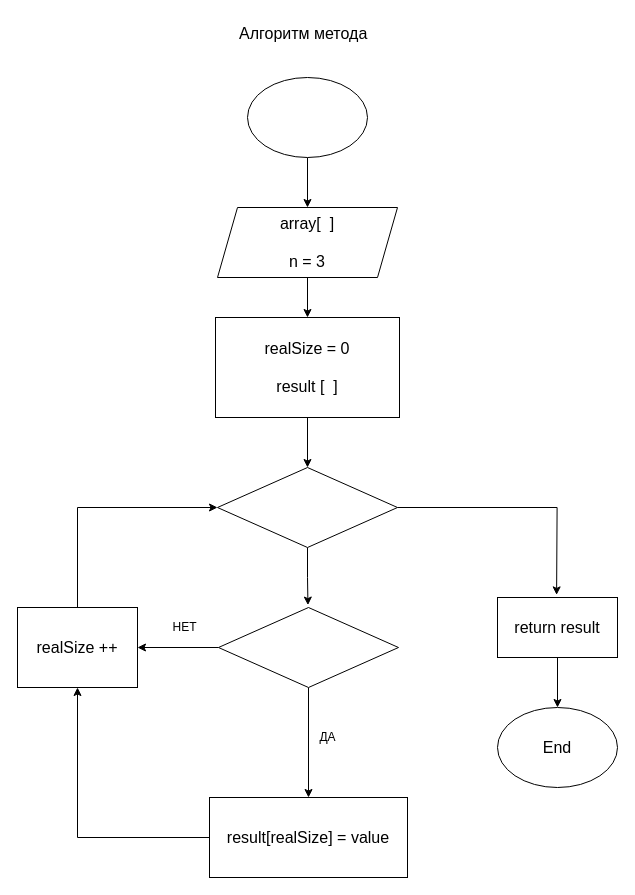
This 635x895 diagram has some shape labels left out. The shapes that lost their labels are listed below. From the top down, each one's centre as x and y in pixels, then its label:
the point at 307,117: Start
the point at 307,507: i < n
the point at 308,647: value.Lenght <= n
